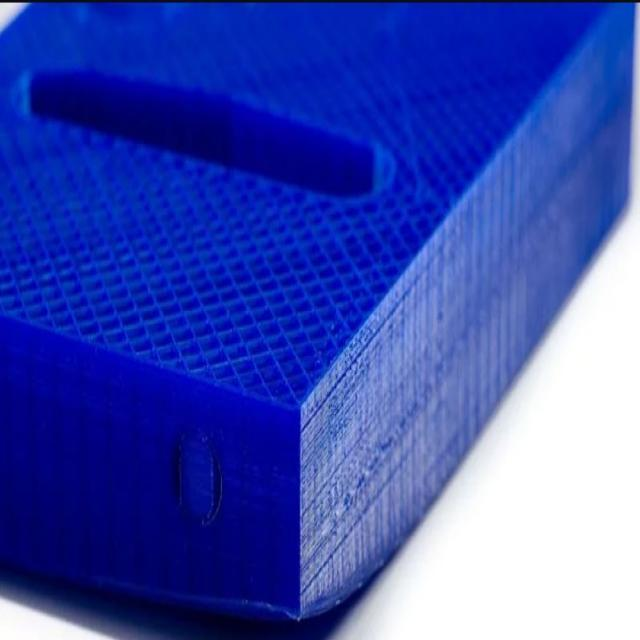Warping: (98, 539, 420, 640), (149, 419, 243, 520)
